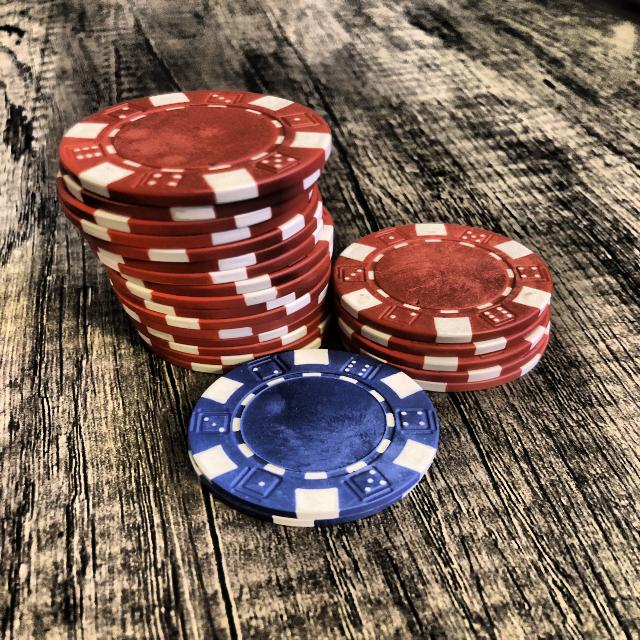Chip: (19, 63, 386, 390), (157, 334, 467, 544), (317, 196, 570, 406)
